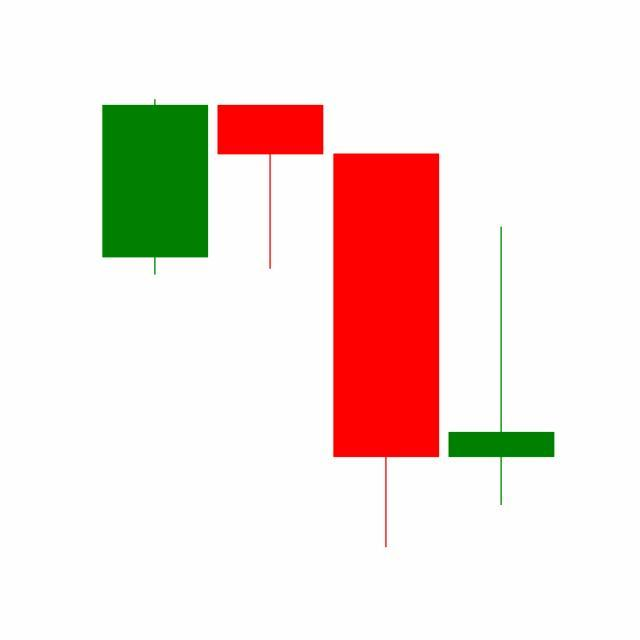Spinning Top: (444, 224, 560, 509)
